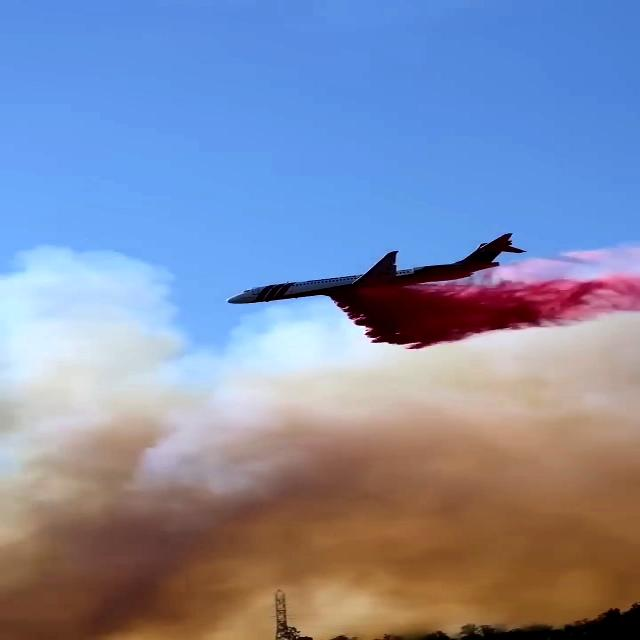Smoke: (0, 336, 640, 635)
